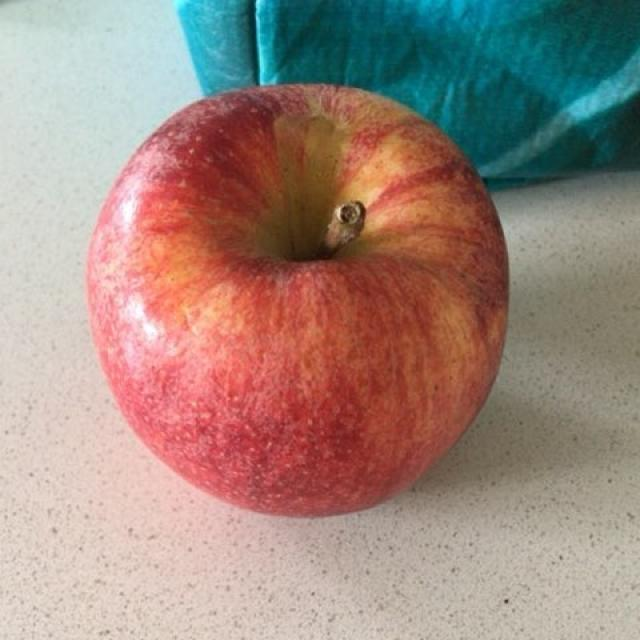apple: (90, 86, 489, 502)
